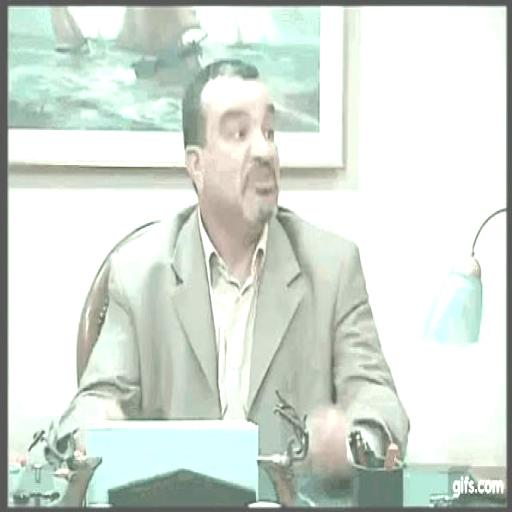slimane: (182, 60, 280, 243)
